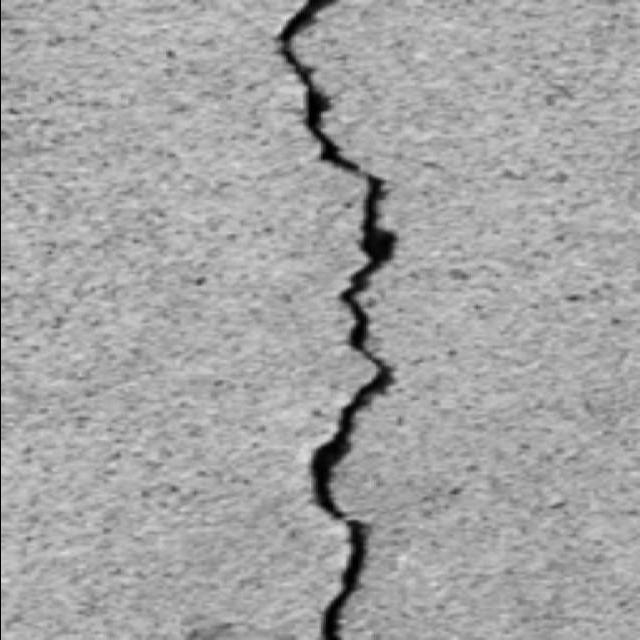SurfaceCrack: (220, 0, 450, 640)
